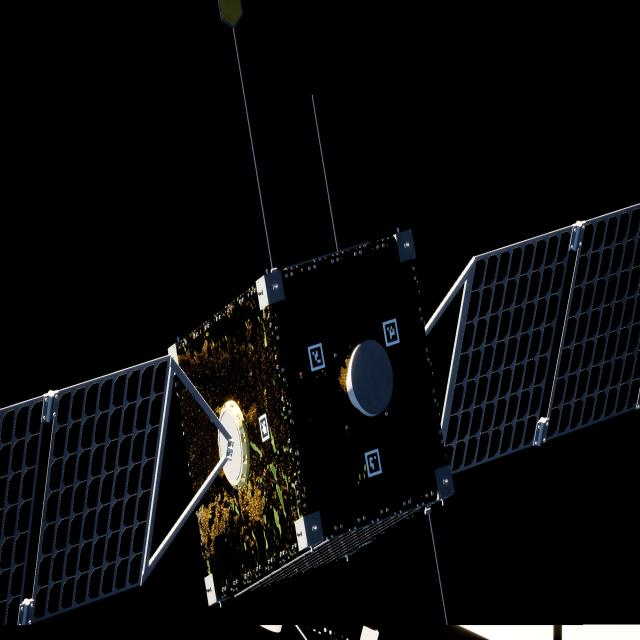medium_debris: (0, 203, 640, 637)
